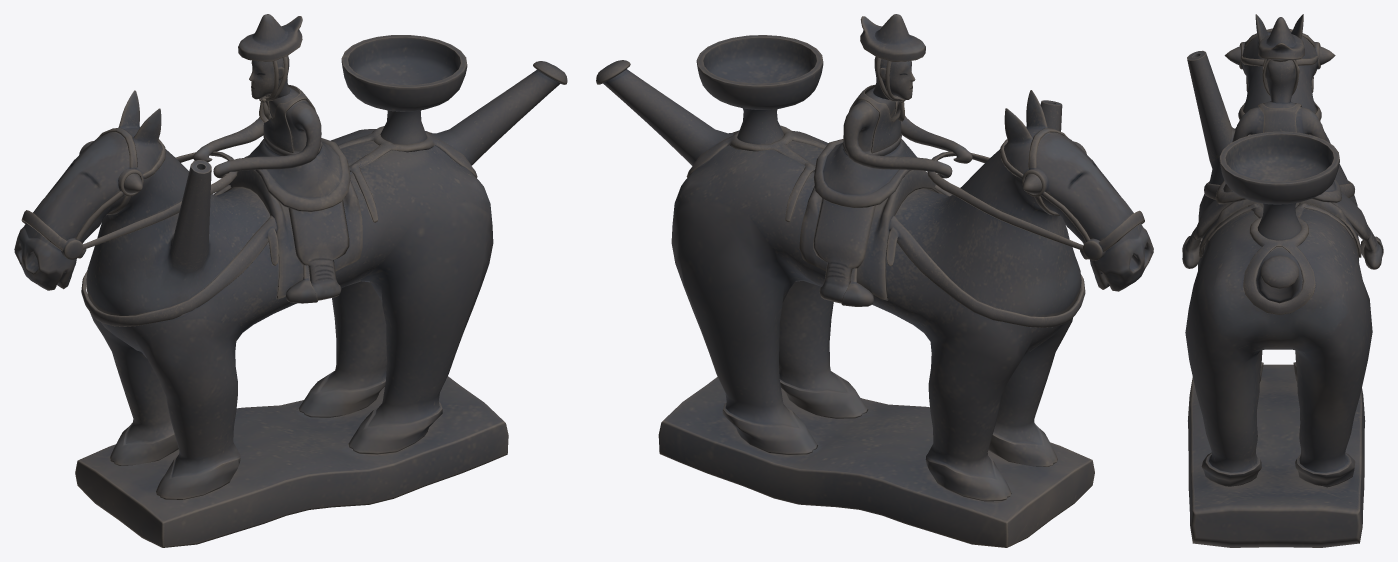
File: horseman-v1.glb
3 renders of one model, left to right at view 1: azimuth 30°, elevation 25°; view 2: azimuth 150°, elevation 25°; view 3: azimuth 270°, elevation 25°, orthographic. The views are drawn at different scales.
Parts seen in each view (by area): view 1: SM_AR10005_Low; view 2: SM_AR10005_Low; view 3: SM_AR10005_Low.
Part boxes in pixels (left/top/right/bottom): SM_AR10005_Low: left=14, top=14, right=567, bottom=547; SM_AR10005_Low: left=596, top=14, right=1153, bottom=547; SM_AR10005_Low: left=1182, top=14, right=1383, bottom=547.
Bounding box in the file's own units: 2.39 × 2 × 0.8036.
Materials: 1 (1 with a texture image).
